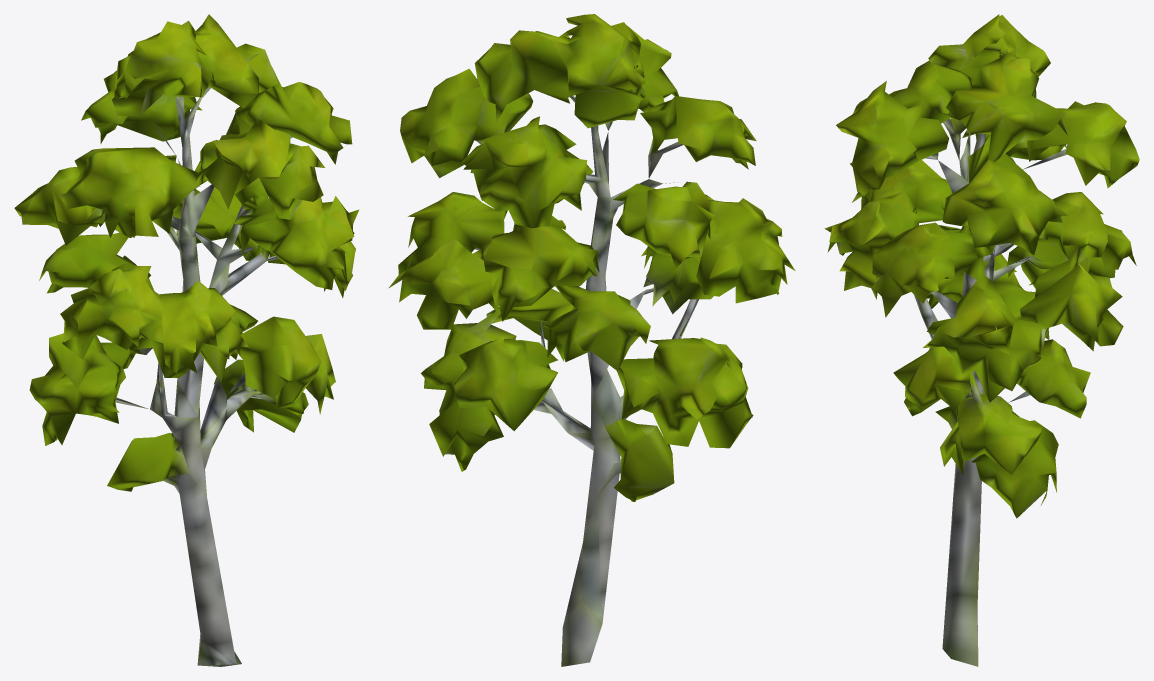
File: tree-birch.glb
3 renders of one model, left to right at view 1: azimuth 30°, elevation 25°; view 2: azimuth 150°, elevation 25°; view 3: azimuth 270°, elevation 25°, orthographic. The views are drawn at different scales.
Visible parts, largest first — view 1: tree-birch; view 2: tree-birch; view 3: tree-birch.
Boxes of the visible parts, x1=… form: tree-birch: x1=14, y1=14, x2=359, y2=666; tree-birch: x1=388, y1=14, x2=795, y2=666; tree-birch: x1=824, y1=14, x2=1139, y2=666.
Bounding box in the file's own units: 4.53 × 8.52 × 3.85.
Materials: 1 (1 with a texture image).
